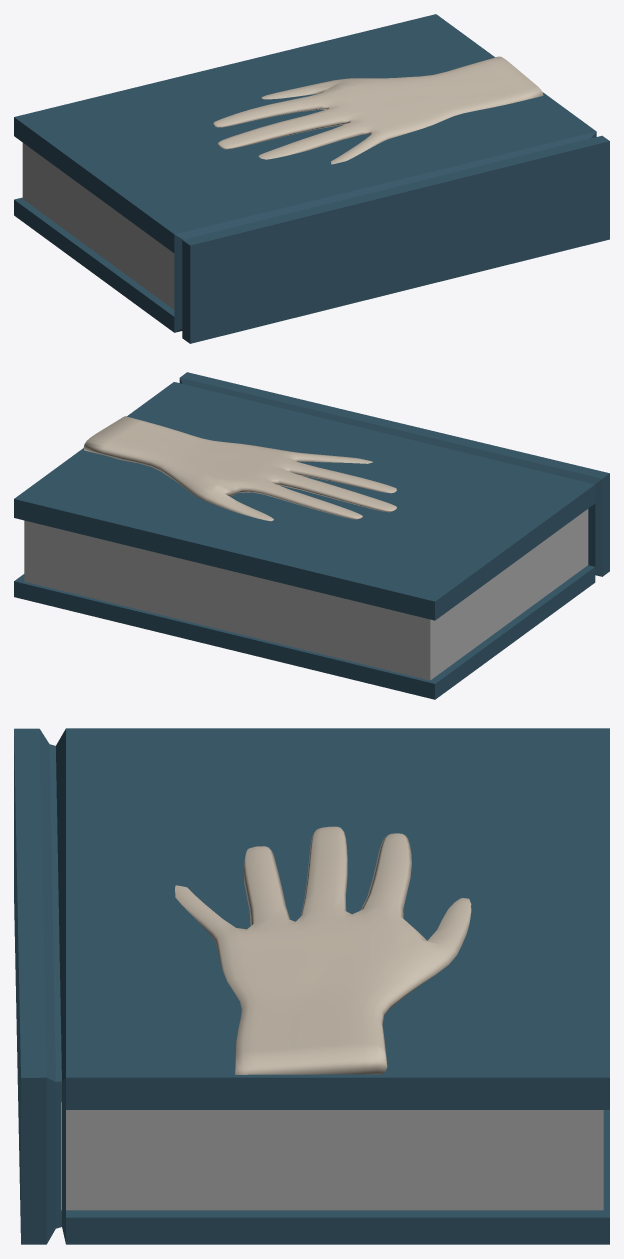
Rendered from InteractablesBook.fbx.
3 views of the same model, one above another, from view 1: azimuth 30°, elevation 25°; view 2: azimuth 150°, elevation 25°; view 3: azimuth 270°, elevation 25° (orthographic). The views are drawn at different scales.
Parts seen in each view (by area): view 1: BookCover, BookHand, BookPages; view 2: BookCover, BookPages, BookHand; view 3: BookCover, BookPages, BookHand.
Boxes of the visible parts, x1,y1,x2,y2 form: BookCover: [14, 14, 609, 343]; BookHand: [213, 56, 543, 164]; BookPages: [22, 143, 174, 309]; BookCover: [14, 372, 609, 699]; BookPages: [24, 509, 588, 680]; BookHand: [83, 416, 396, 521]; BookCover: [14, 728, 609, 1244]; BookPages: [61, 1102, 603, 1210]; BookHand: [175, 826, 471, 1074].
Bounding box in the file's own units: 522 × 128 × 376.
